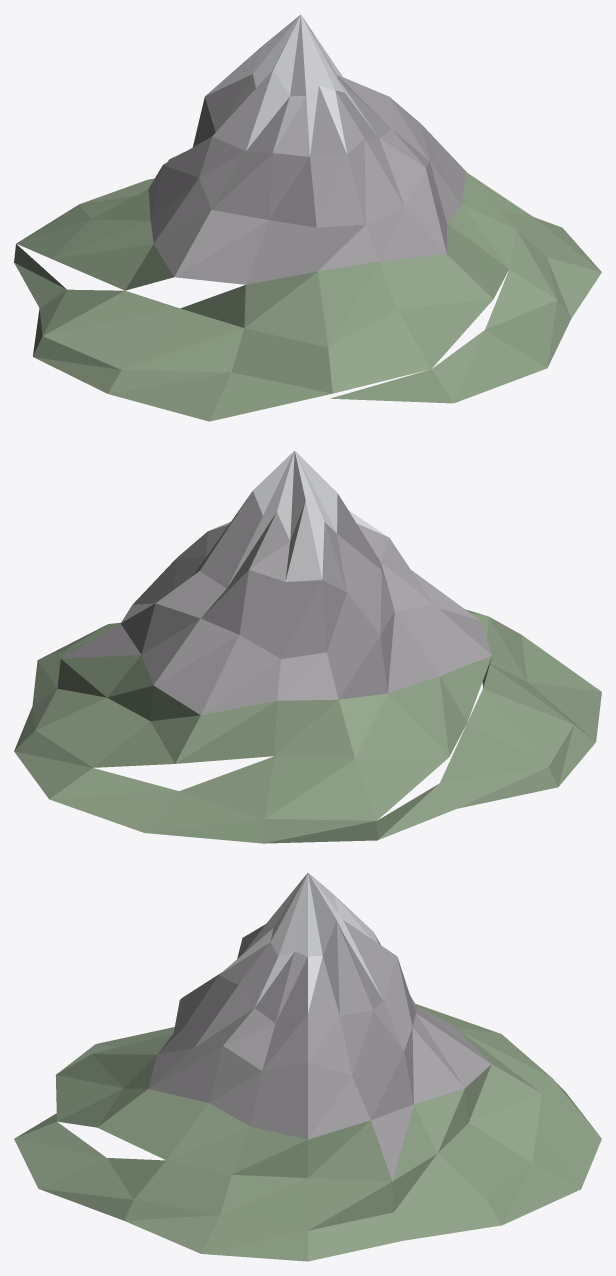
The model's file is mountain1.glb.
3 renders of one model, top to bottom at view 1: azimuth 30°, elevation 25°; view 2: azimuth 150°, elevation 25°; view 3: azimuth 270°, elevation 25°, orthographic. The views are drawn at different scales.
Parts seen in each view (by area): view 1: mountain1; view 2: mountain1; view 3: mountain1.
Part boxes in pixels (x1,y1,x2,y2): mountain1: (14, 14, 601, 421); mountain1: (14, 450, 601, 843); mountain1: (14, 873, 601, 1261).
Bounding box in the file's own units: 2 × 1 × 2.
